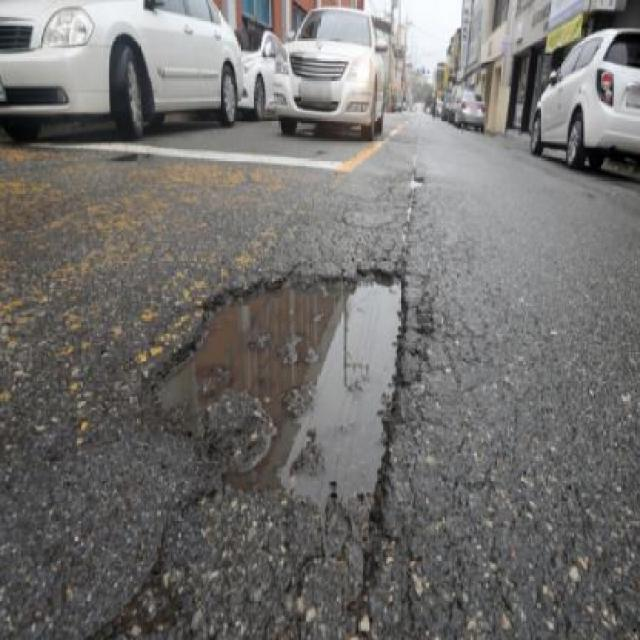Pothole: (149, 268, 416, 560)
